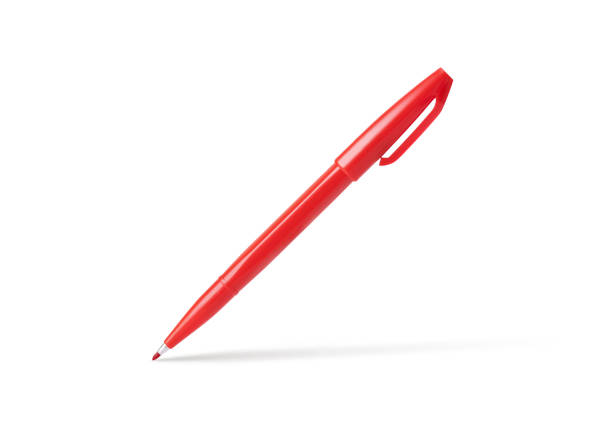pen: (110, 64, 490, 368)
